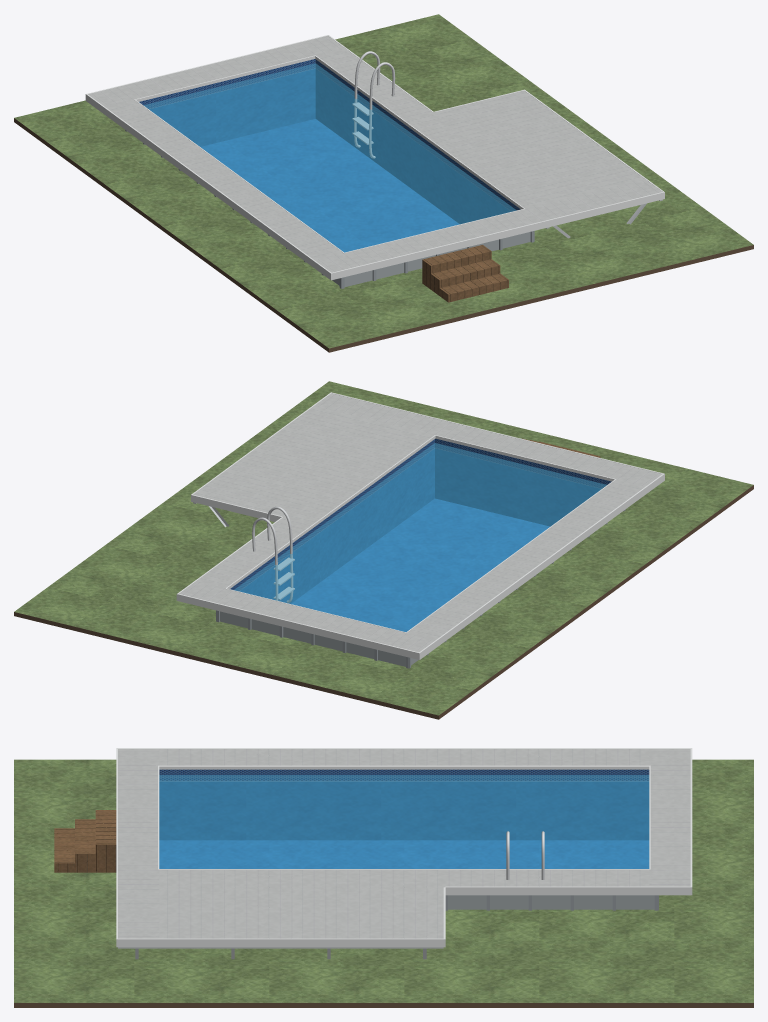
The model's file is kayak-pool-12x24-gray-l-rec-nofence.f02b4e3043.glb.
3 renders of one model, top to bottom at view 1: azimuth 30°, elevation 25°; view 2: azimuth 150°, elevation 25°; view 3: azimuth 270°, elevation 25°, orthographic. The views are drawn at different scales.
Visible parts, largest first — view 1: ground, water, deck, liner_wall, liner_floor, fascia, soil, steps, wall, steel; view 2: ground, water, deck, liner_wall, liner_floor, fascia, soil, wall, steel; view 3: ground, water, deck, liner_wall, liner_floor, fascia, soil, steps, wall, stud.
Boxes of the visible parts, bbox=[...] form: ground: bbox=[14, 14, 753, 348]; water: bbox=[143, 63, 516, 252]; deck: bbox=[88, 36, 661, 272]; liner_wall: bbox=[139, 59, 520, 224]; liner_floor: bbox=[201, 119, 459, 252]; fascia: bbox=[85, 35, 664, 280]; soil: bbox=[14, 118, 753, 352]; steps: bbox=[422, 245, 508, 302]; wall: bbox=[332, 232, 530, 286]; steel: bbox=[352, 51, 395, 158]; ground: bbox=[14, 381, 753, 715]; water: bbox=[234, 443, 606, 631]; deck: bbox=[179, 393, 662, 652]; liner_wall: bbox=[230, 438, 611, 603]; liner_floor: bbox=[291, 498, 549, 631]; fascia: bbox=[176, 392, 664, 659]; soil: bbox=[14, 485, 753, 719]; wall: bbox=[220, 611, 417, 666]; steel: bbox=[252, 506, 294, 602]; ground: bbox=[14, 759, 753, 1002]; water: bbox=[159, 775, 649, 868]; deck: bbox=[118, 749, 690, 938]; liner_wall: bbox=[159, 769, 649, 840]; liner_floor: bbox=[159, 840, 649, 868]; fascia: bbox=[116, 748, 692, 947]; soil: bbox=[14, 1003, 753, 1007]; steps: bbox=[54, 810, 116, 872]; wall: bbox=[448, 895, 654, 909]; stud: bbox=[118, 947, 443, 959].
Bounding box in the file's own units: 8.53 × 1.9 × 10.97.
Materials: 12 (5 with a texture image).
